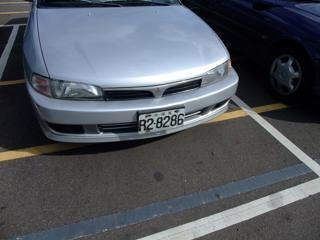plate: (136, 108, 185, 133)
